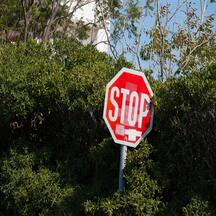Circle: (102, 67, 155, 147)
